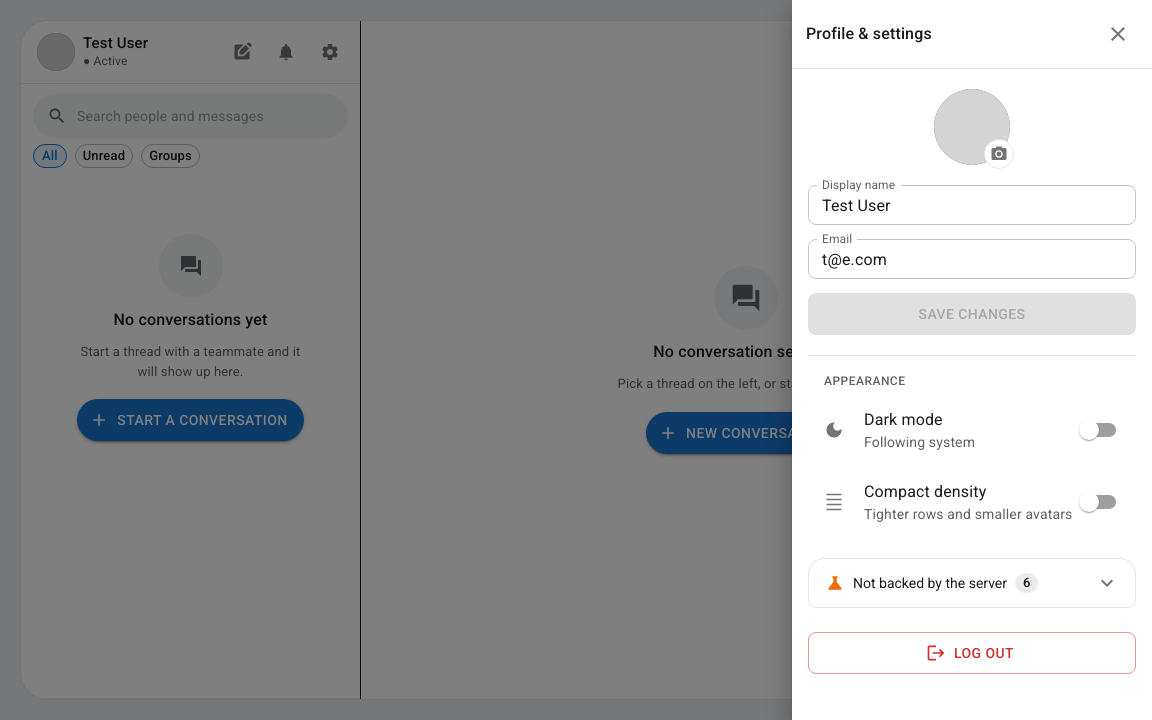
Test: removing a profile photo › restores the photo when Undo is pressed
Expected: the text "Test User" is shown, [83,34,148,52]
Click the button named "profile photo options".
click(999, 154)  # box [984,139,1014,169]
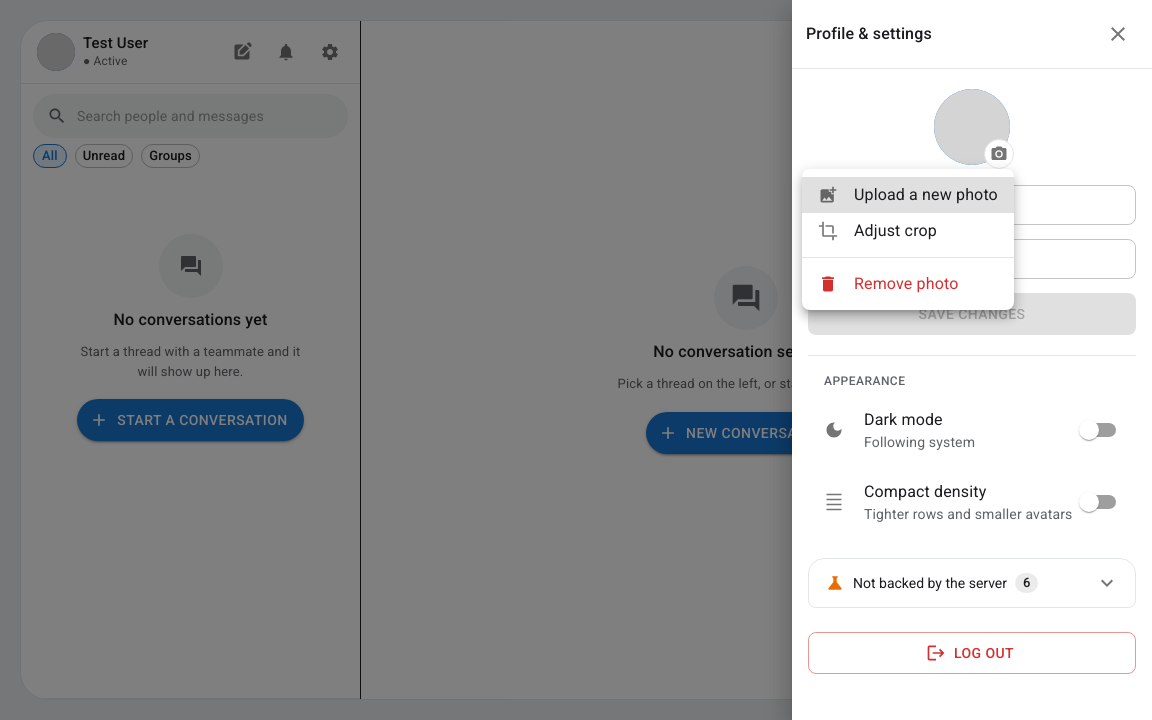
Click the menu item "Remove photo".
click(888, 284)  # box [818,274,958,294]
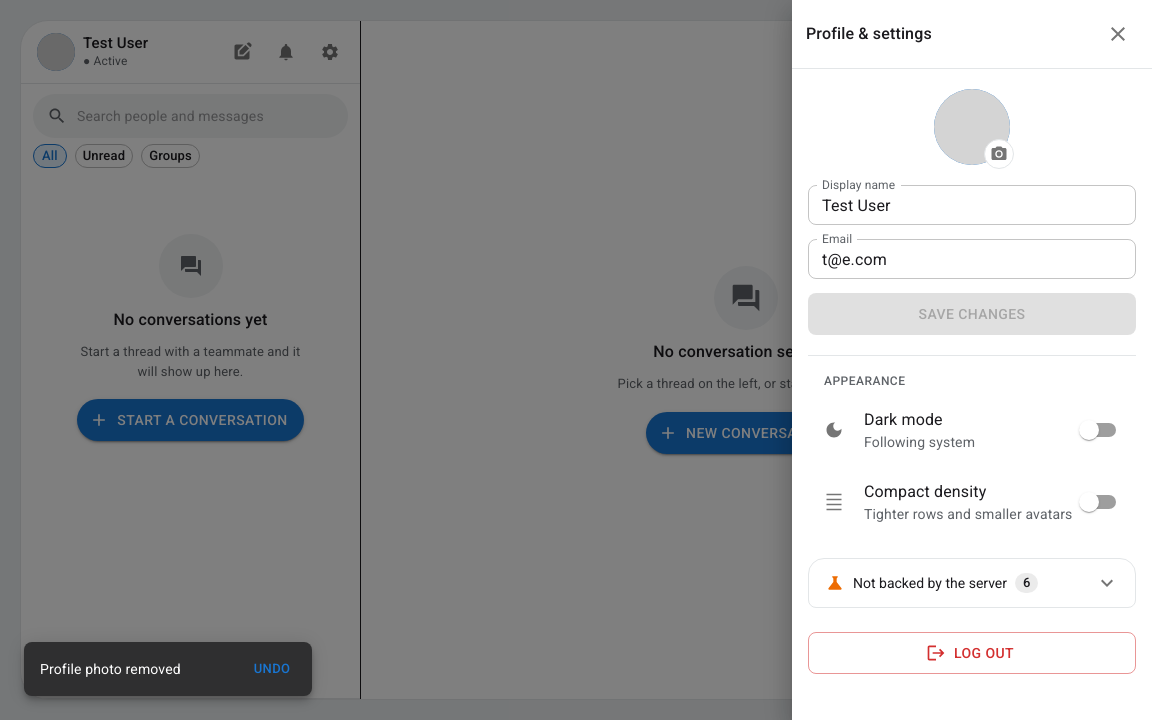
Click the button "Undo".
click(272, 669)  # box [240,648,304,690]
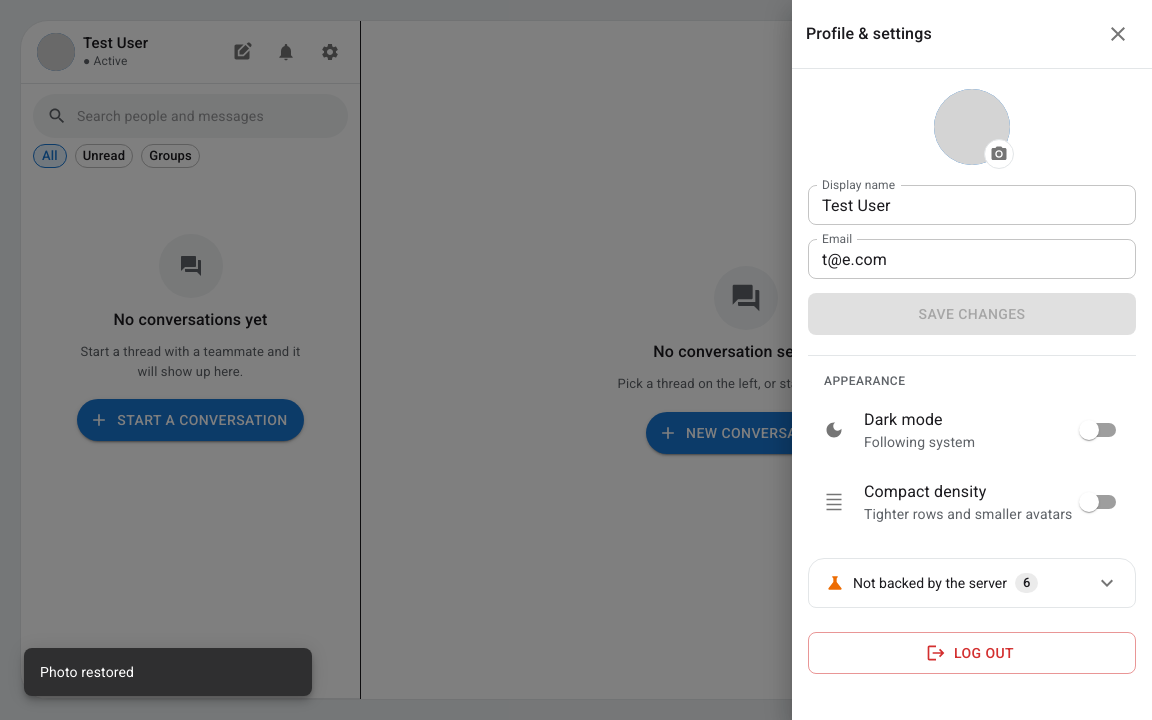
Now the text "Photo restored" is shown, box [40,664,134,680]
